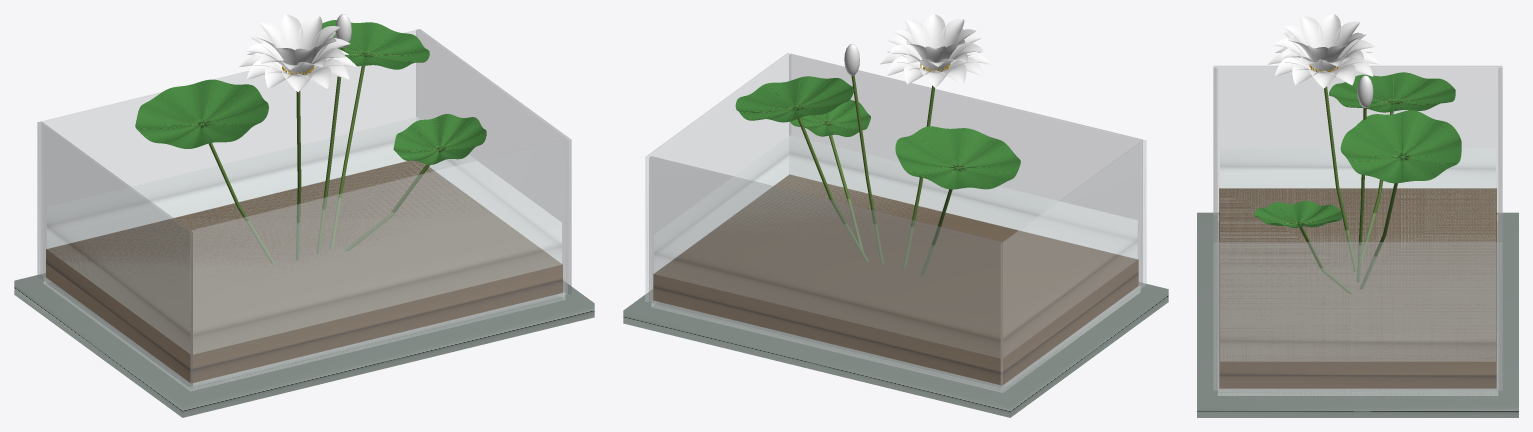
The model's file is plant.glb.
The picture shows the model from 3 angles, left to right: view 1: azimuth 30°, elevation 25°; view 2: azimuth 150°, elevation 25°; view 3: azimuth 270°, elevation 25°; orthographic projection. The views are drawn at different scales.
Visible parts, largest first — view 1: Water volume, Soil — optional transparent teaching view, Glass front back, Glass front back.001, Glass side, Display plinth, Glass side.001, Entire circular peltate lotus leaf, Entire circular peltate lotus leaf.002, Tank bottom, Entire circular peltate lotus leaf.001, Rooted leaf or flower stalk.004 (+5 smaller); view 2: Soil — optional transparent teaching view, Glass front back.001, Glass front back, Water volume, Glass side, Display plinth, Glass side.001, Entire circular peltate lotus leaf, Entire circular peltate lotus leaf.001, Tank bottom, Entire circular peltate lotus leaf.002, Rooted leaf or flower stalk.004 (+3 smaller); view 3: Soil — optional transparent teaching view, Water volume, Glass side.001, Glass side, Display plinth, Entire circular peltate lotus leaf.001, Entire circular peltate lotus leaf, Tank bottom, Entire circular peltate lotus leaf.002, Glass front back, Glass front back.001, Rooted leaf or flower stalk.003 (+12 smaller).
Boxes of the visible parts, box(x1,y1,x2,y2) form: Water volume: box(47, 117, 561, 354); Soil — optional transparent teaching view: box(46, 160, 562, 383); Glass front back: box(191, 139, 567, 385); Glass front back.001: box(41, 30, 417, 276); Glass side: box(37, 121, 192, 386); Display plinth: box(14, 273, 594, 417); Glass side.001: box(416, 29, 571, 294); Entire circular peltate lotus leaf: box(135, 79, 268, 148); Entire circular peltate lotus leaf.002: box(393, 114, 486, 164); Tank bottom: box(44, 277, 564, 390); Entire circular peltate lotus leaf.001: box(321, 20, 429, 69); Rooted leaf or flower stalk.004: box(317, 47, 344, 253); Soil — optional transparent teaching view: box(653, 174, 1138, 385); Glass front back.001: box(649, 156, 1002, 387); Glass front back: box(789, 54, 1142, 285); Water volume: box(654, 135, 1137, 351); Glass side: box(1001, 140, 1146, 388); Display plinth: box(623, 282, 1168, 417); Glass side.001: box(645, 53, 790, 301); Entire circular peltate lotus leaf: box(895, 126, 1020, 189); Entire circular peltate lotus leaf.001: box(735, 76, 855, 122); Tank bottom: box(651, 285, 1140, 392); Entire circular peltate lotus leaf.002: box(790, 99, 870, 136); Rooted leaf or flower stalk.004: box(851, 75, 883, 263); Soil — optional transparent teaching view: box(1219, 188, 1496, 388); Water volume: box(1220, 149, 1495, 361); Glass side.001: box(1213, 242, 1502, 390); Glass side: box(1213, 66, 1502, 214); Display plinth: box(1197, 212, 1518, 417); Entire circular peltate lotus leaf.001: box(1340, 110, 1461, 183); Entire circular peltate lotus leaf: box(1329, 72, 1455, 112); Tank bottom: box(1218, 215, 1497, 395); Entire circular peltate lotus leaf.002: box(1254, 200, 1342, 227); Glass front back: box(1213, 68, 1217, 388); Glass front back.001: box(1498, 68, 1502, 388); Rooted leaf or flower stalk.003: box(1324, 86, 1356, 271).
Size of the model in its own units: 3.08 by 2.09 by 2.18.
